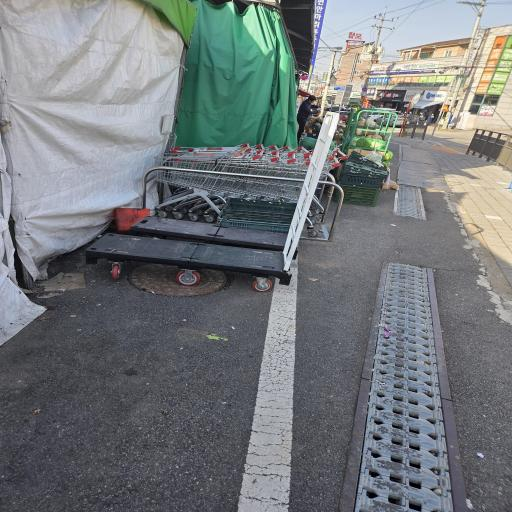combined_cart: (147, 143, 350, 242)
